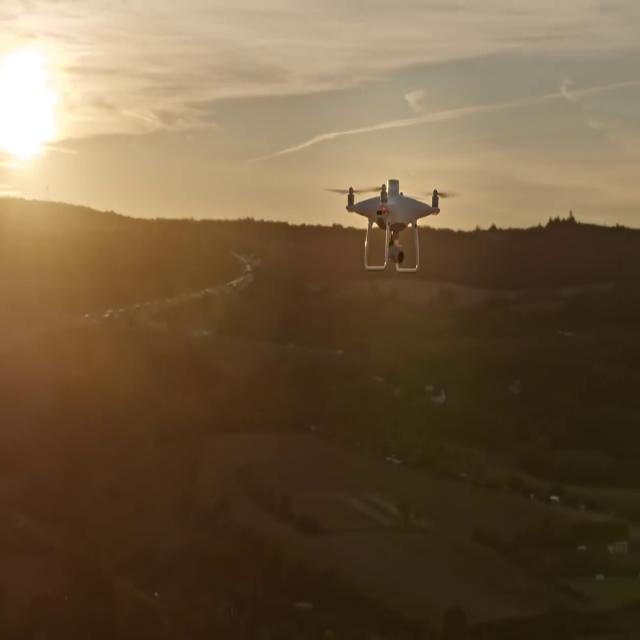drone: (321, 172, 459, 276)
